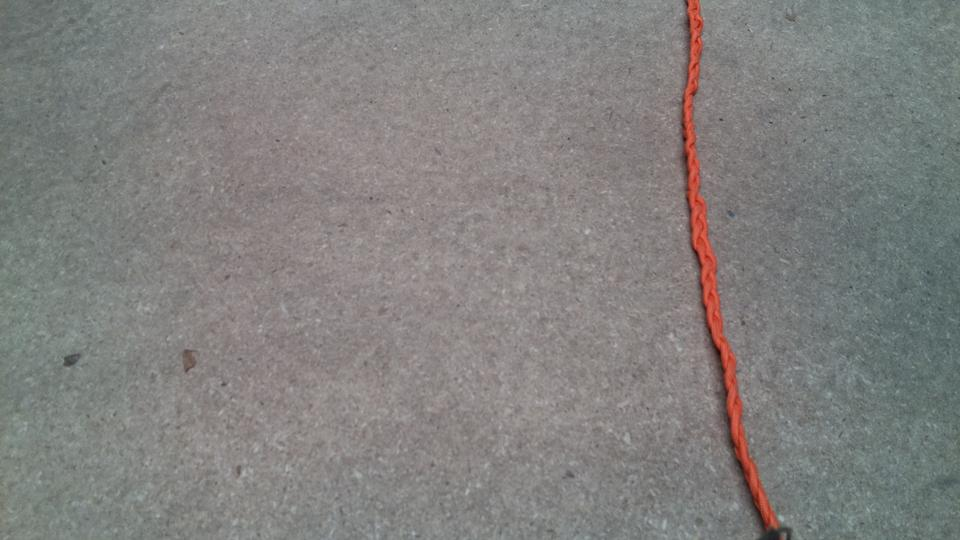rope: (676, 1, 790, 538)
